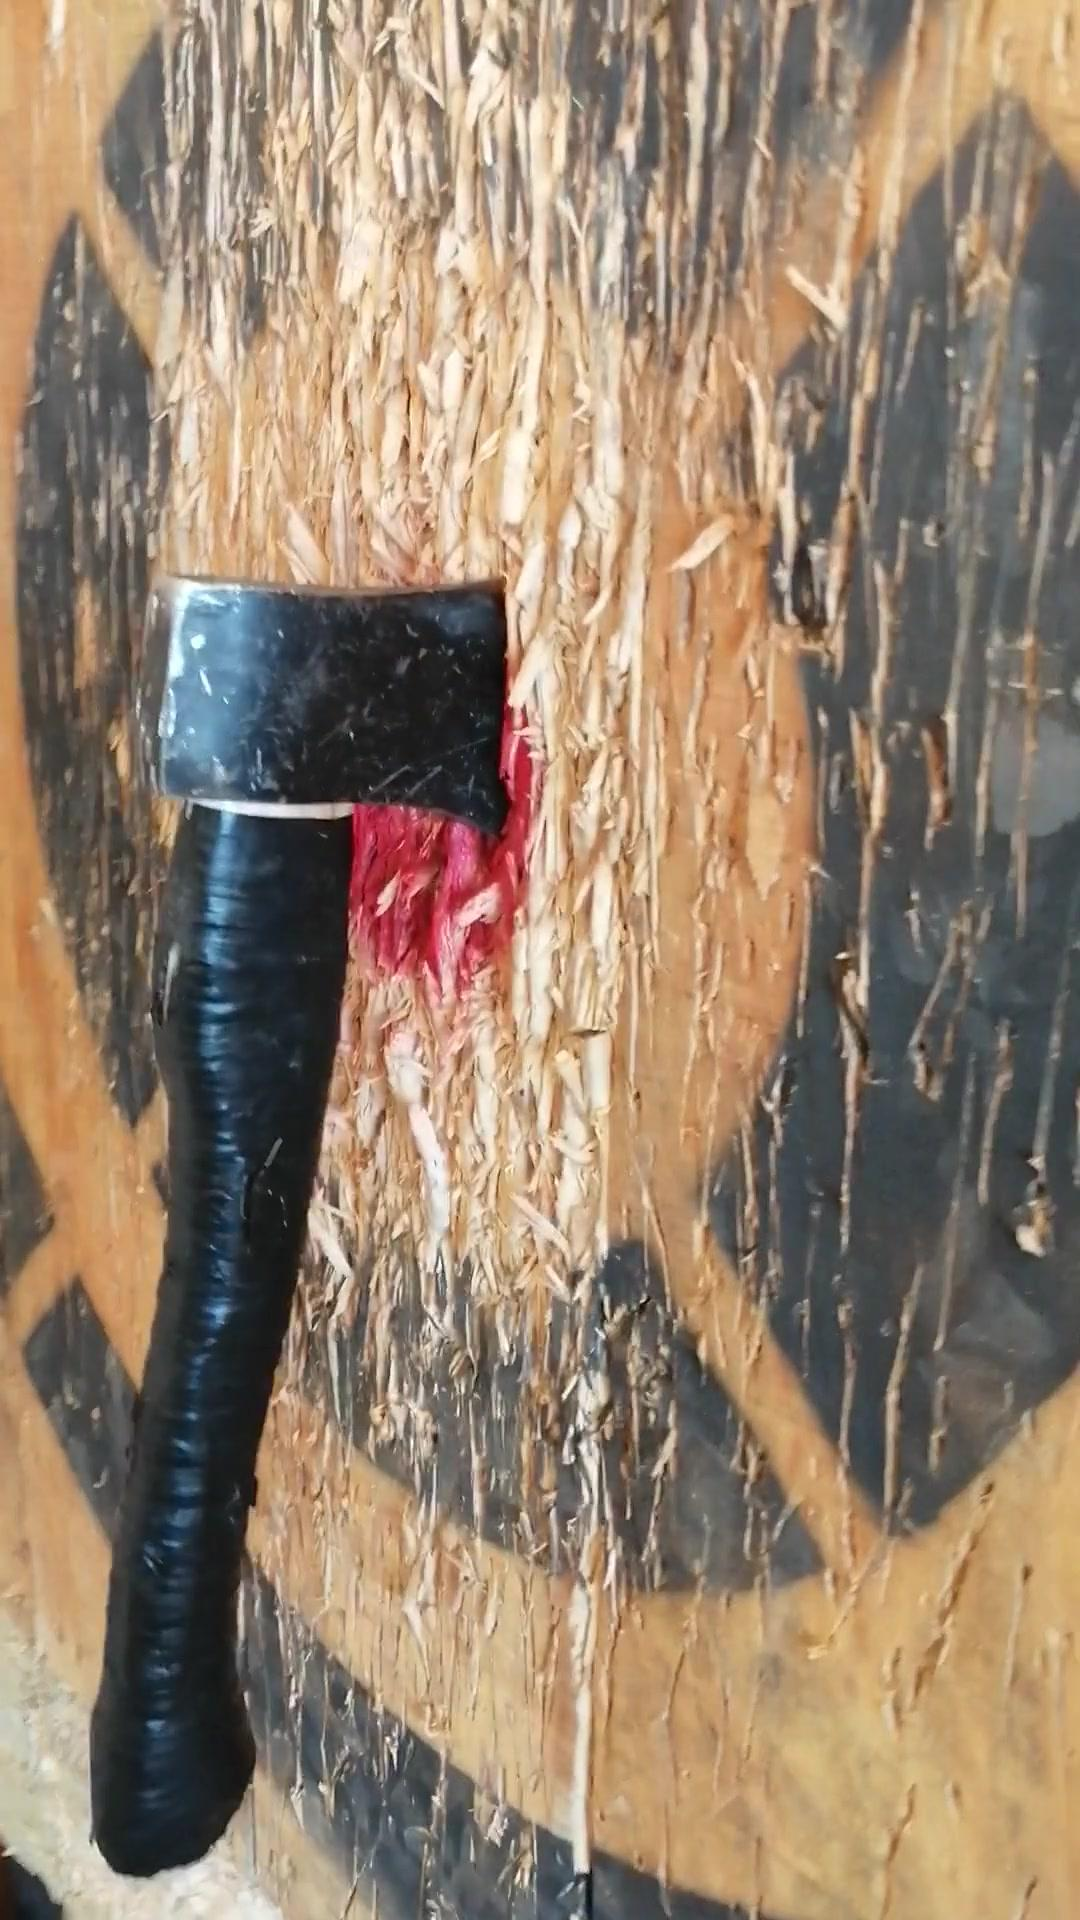Hand Axe: (131, 570, 518, 840)
